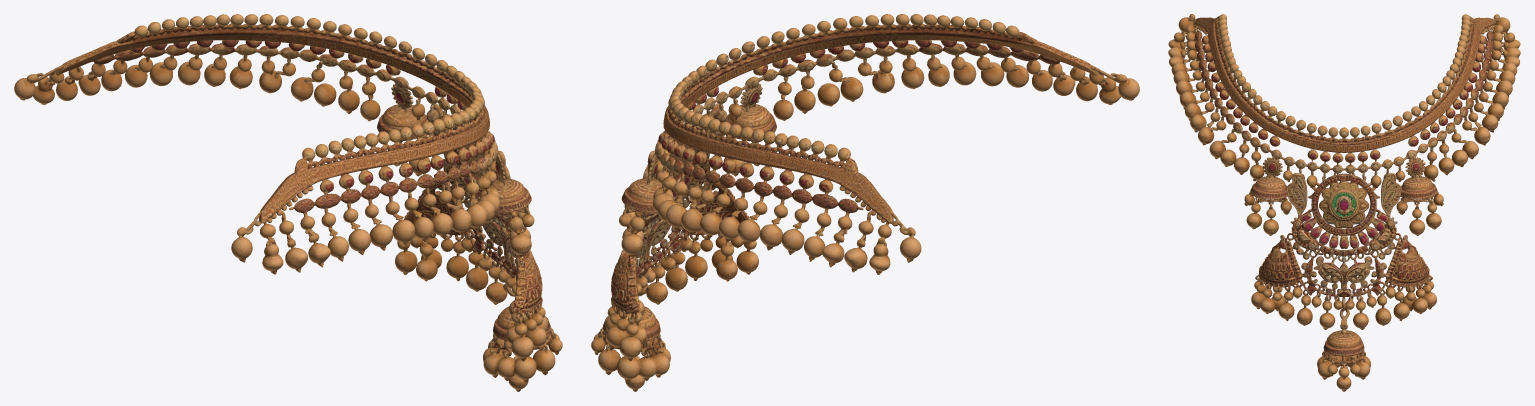
Rendered from Dimond Nacklace.glb.
3 renders of one model, left to right at view 1: azimuth 30°, elevation 25°; view 2: azimuth 150°, elevation 25°; view 3: azimuth 270°, elevation 25°, orthographic. The views are drawn at different scales.
Visible parts, largest first — view 1: tripo_node_045321d8-dea4-4fe8-8e0e-891741ae42f8; view 2: tripo_node_045321d8-dea4-4fe8-8e0e-891741ae42f8; view 3: tripo_node_045321d8-dea4-4fe8-8e0e-891741ae42f8.
Boxes of the visible parts, x1,y1,x2,y2 form: tripo_node_045321d8-dea4-4fe8-8e0e-891741ae42f8: [14, 14, 562, 391]; tripo_node_045321d8-dea4-4fe8-8e0e-891741ae42f8: [591, 14, 1139, 391]; tripo_node_045321d8-dea4-4fe8-8e0e-891741ae42f8: [1168, 14, 1520, 391].
Size of the model in its own units: 1 by 0.828 by 0.9664.
1 material, 1 textured.
